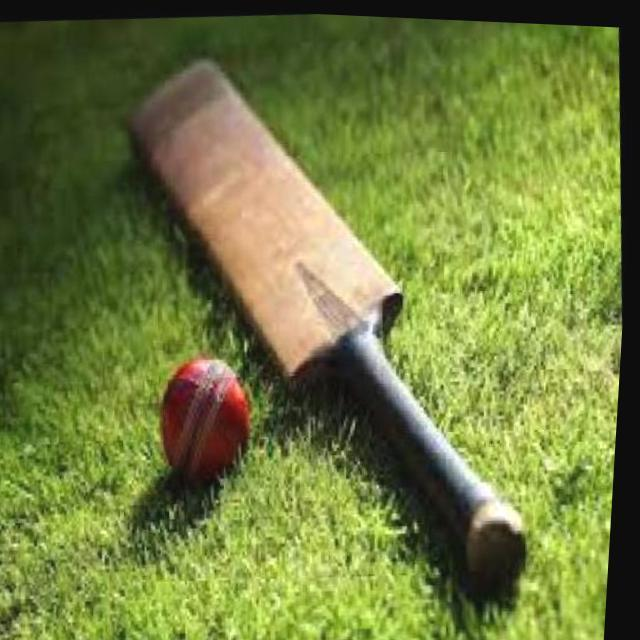-: (150, 341, 272, 490)
